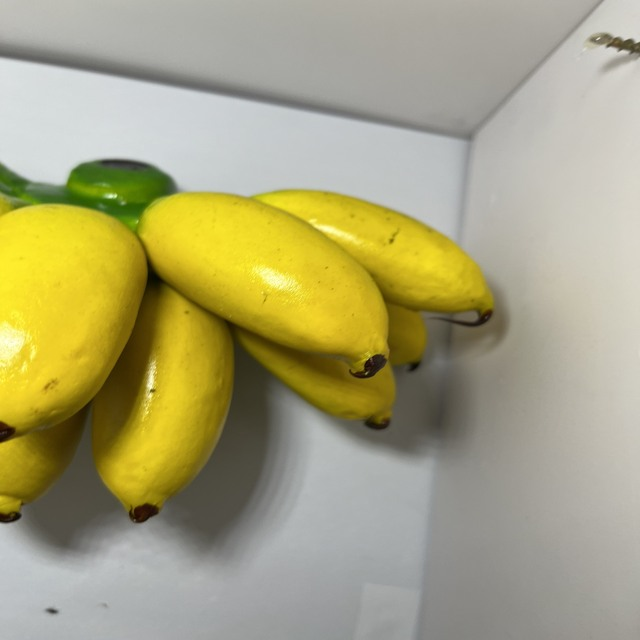Chuoi: (0, 145, 512, 530)
